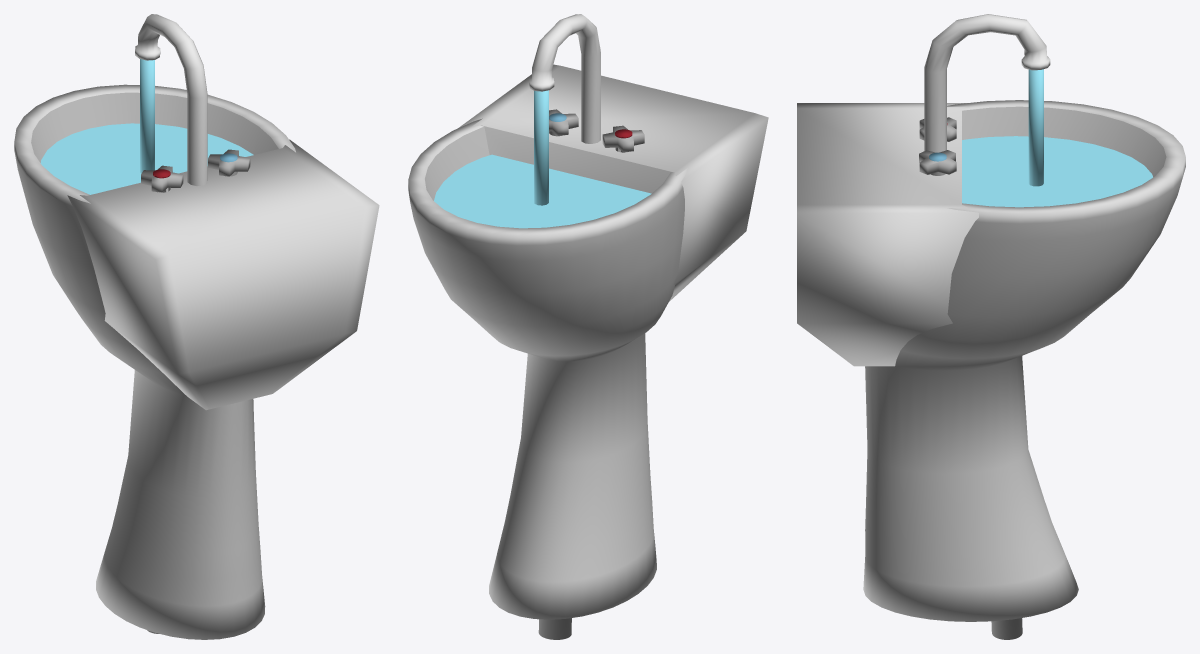
The model's file is Tap.fbx.
3 views of the same model, side by side, from view 1: azimuth 30°, elevation 25°; view 2: azimuth 150°, elevation 25°; view 3: azimuth 270°, elevation 25° (orthographic).
Visible parts, largest first — view 1: Cylinder.025, Circle.023, Cylinder.018, Cylinder.017, Circle.021, Circle.022; view 2: Cylinder.025, Circle.023, Cylinder.018, Cylinder.017, Circle.021, Circle.022; view 3: Cylinder.025, Circle.023, Cylinder.018, Cylinder.017, Circle.022.
Part boxes in pixels (left/top/right/bottom): Cylinder.025: left=14, top=84, right=379, bottom=639; Circle.023: left=40, top=123, right=253, bottom=194; Cylinder.018: left=135, top=14, right=207, bottom=185; Cylinder.017: left=140, top=59, right=154, bottom=173; Circle.021: left=141, top=165, right=183, bottom=192; Circle.022: left=208, top=149, right=250, bottom=176; Cylinder.025: left=408, top=64, right=768, bottom=639; Circle.023: left=434, top=154, right=651, bottom=228; Cylinder.018: left=529, top=14, right=600, bottom=143; Cylinder.017: left=534, top=90, right=548, bottom=205; Circle.021: left=602, top=125, right=644, bottom=152; Circle.022: left=549, top=109, right=578, bottom=136; Cylinder.025: left=797, top=100, right=1185, bottom=639; Circle.023: left=962, top=136, right=1152, bottom=207; Cylinder.018: left=924, top=14, right=1050, bottom=152; Cylinder.017: left=1028, top=69, right=1043, bottom=186; Circle.022: left=919, top=150, right=956, bottom=175.
Size of the model in its own units: 4723085 by 1.19e+07 by 6810886.
